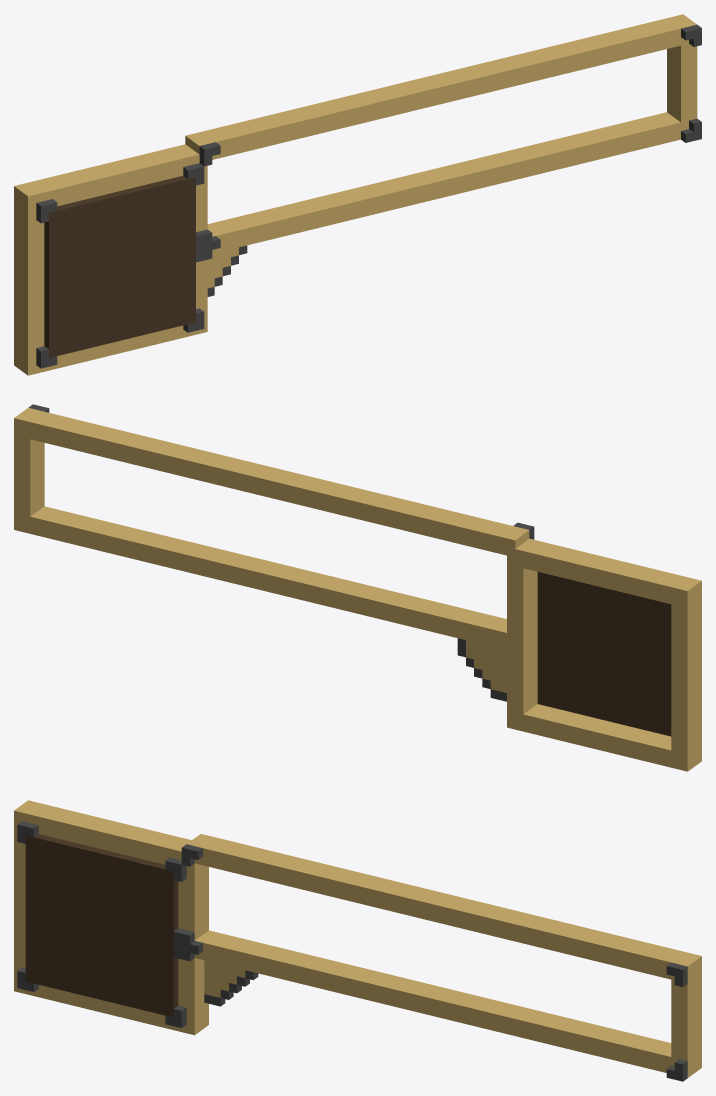
File: bar.obj
3 views of the same model, one above another, from view 1: azimuth 30°, elevation 25°; view 2: azimuth 150°, elevation 25°; view 3: azimuth 330°, elevation 25° (orthographic).
Parts seen in each view (by area): view 1: bar; view 2: bar; view 3: bar.
Boxes of the visible parts, left/top/right/bottom form: bar: left=14, top=14, right=701, bottom=375; bar: left=14, top=404, right=701, bottom=771; bar: left=14, top=800, right=701, bottom=1081.
Bounding box in the file's own units: 82 × 22 × 4.
